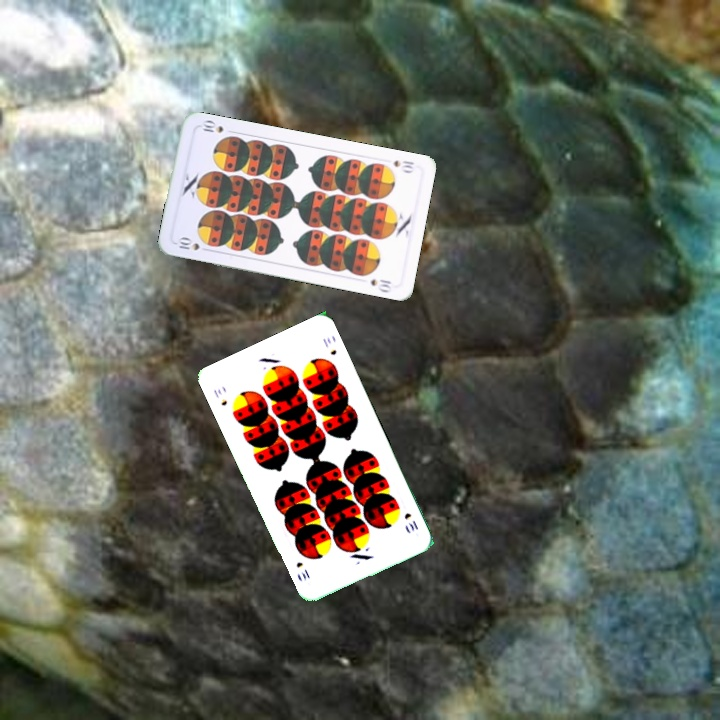S10: (174, 234, 202, 253), (389, 156, 417, 175), (400, 509, 421, 534), (209, 384, 230, 408)
